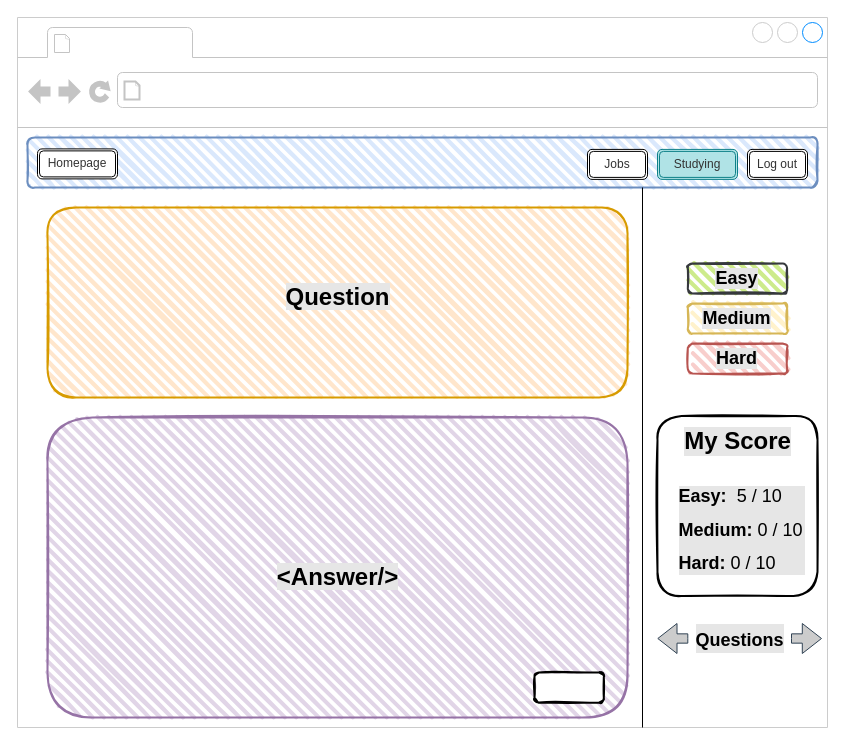
Image size: 845x745. Some labels were removed from this diagram. The box of each missing label's shape, as (x1, y1, x2, y2) in pixels:
https://www.localhost:3000/studying/exrcises/:category: (146, 76, 578, 104)
Page 4: (76, 28, 188, 56)
Submit: (533, 671, 604, 703)
